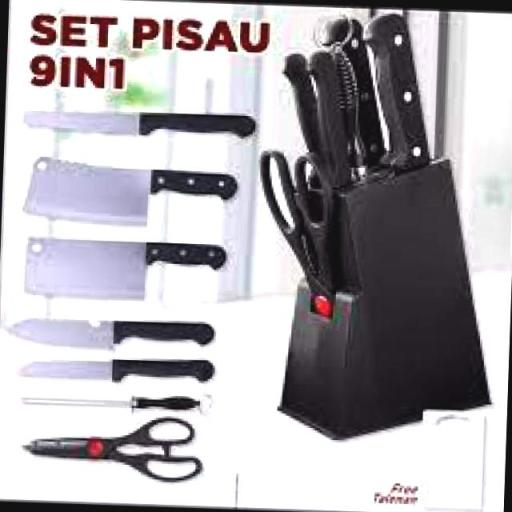knife: (14, 102, 242, 420)
